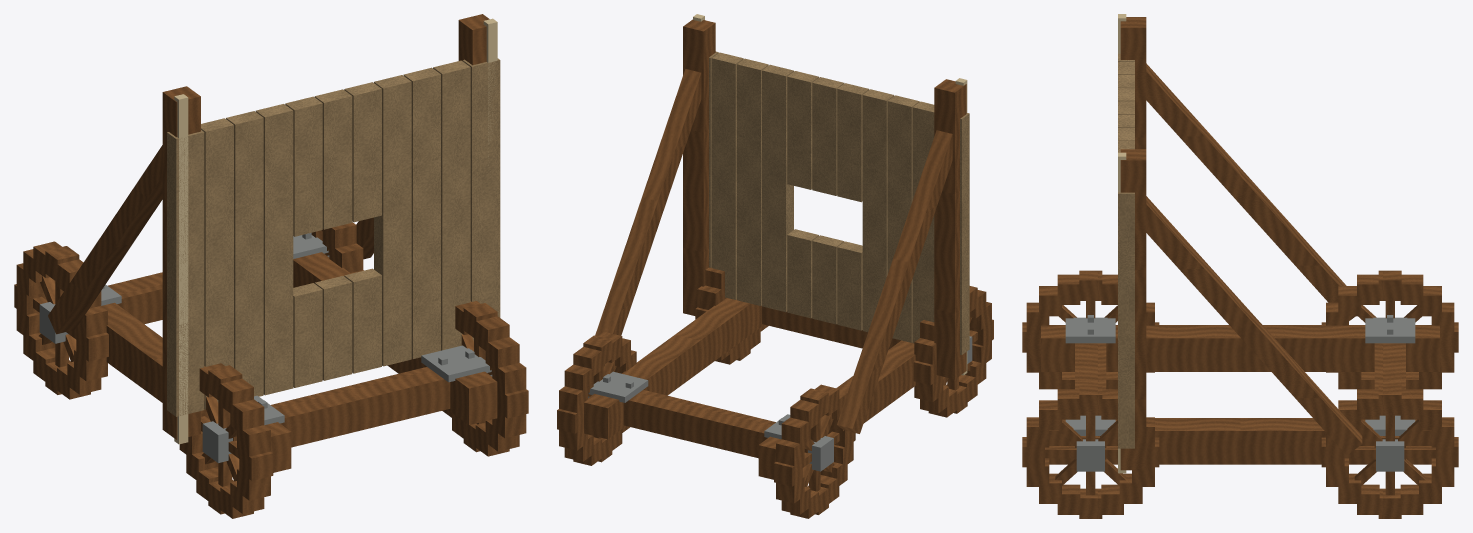
The picture shows the model from 3 angles, left to right: view 1: azimuth 30°, elevation 25°; view 2: azimuth 150°, elevation 25°; view 3: azimuth 270°, elevation 25°; orthographic projection. The views are drawn at different scales.
Size of the model in its own units: 241 by 288 by 306.
4 materials, 2 textured.
